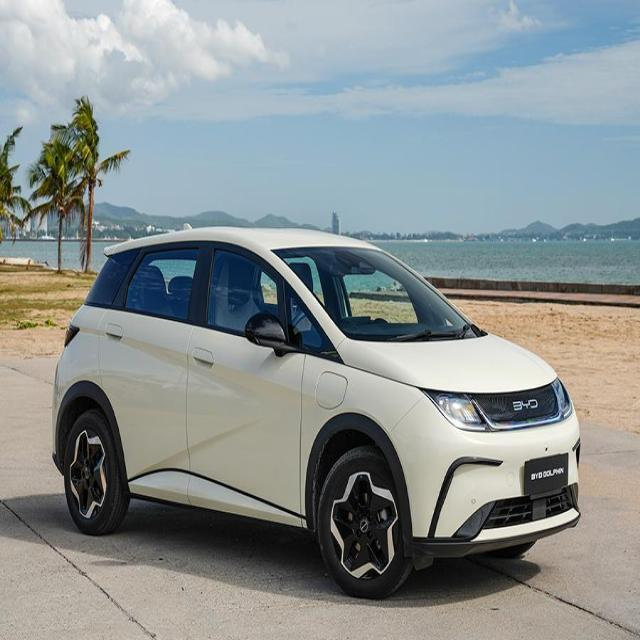Hatchback: (50, 228, 582, 601)
